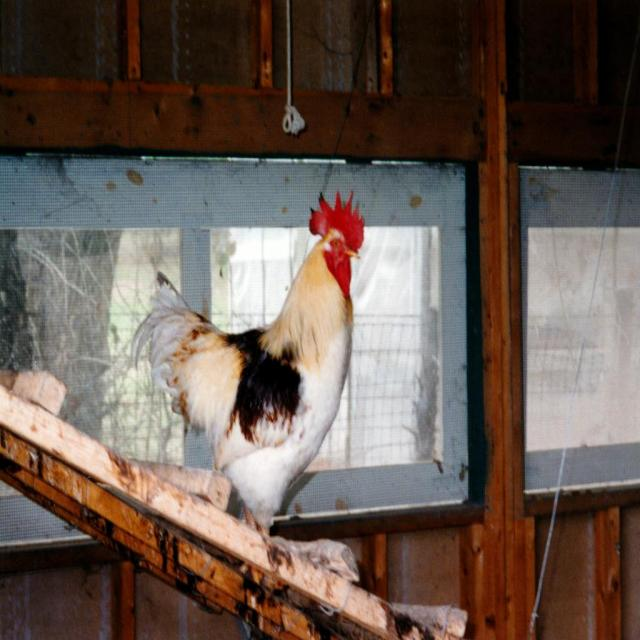Chicken: (142, 182, 365, 550)
